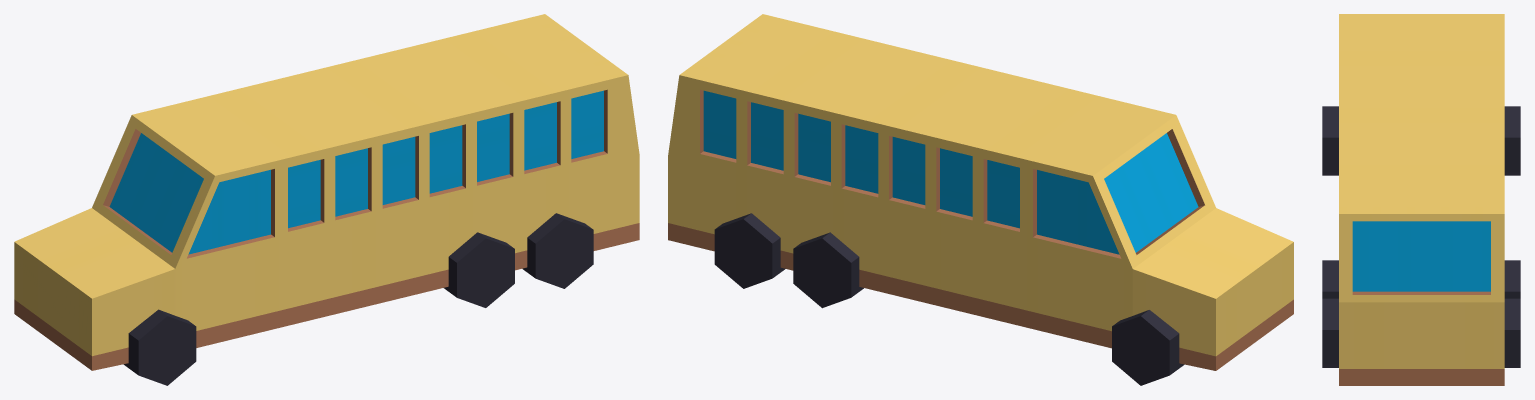
File: School_Bus.fbx
The picture shows the model from 3 angles, left to right: view 1: azimuth 30°, elevation 25°; view 2: azimuth 150°, elevation 25°; view 3: azimuth 270°, elevation 25°; orthographic projection.
Visible parts, largest first — view 1: Cube.034; view 2: Cube.034; view 3: Cube.034.
Boxes of the visible parts, x1,y1,x2,y2 form: Cube.034: [14, 14, 639, 385]; Cube.034: [668, 14, 1293, 385]; Cube.034: [1322, 14, 1520, 385].
Bounding box in the file's own units: 1155 × 385 × 367.
